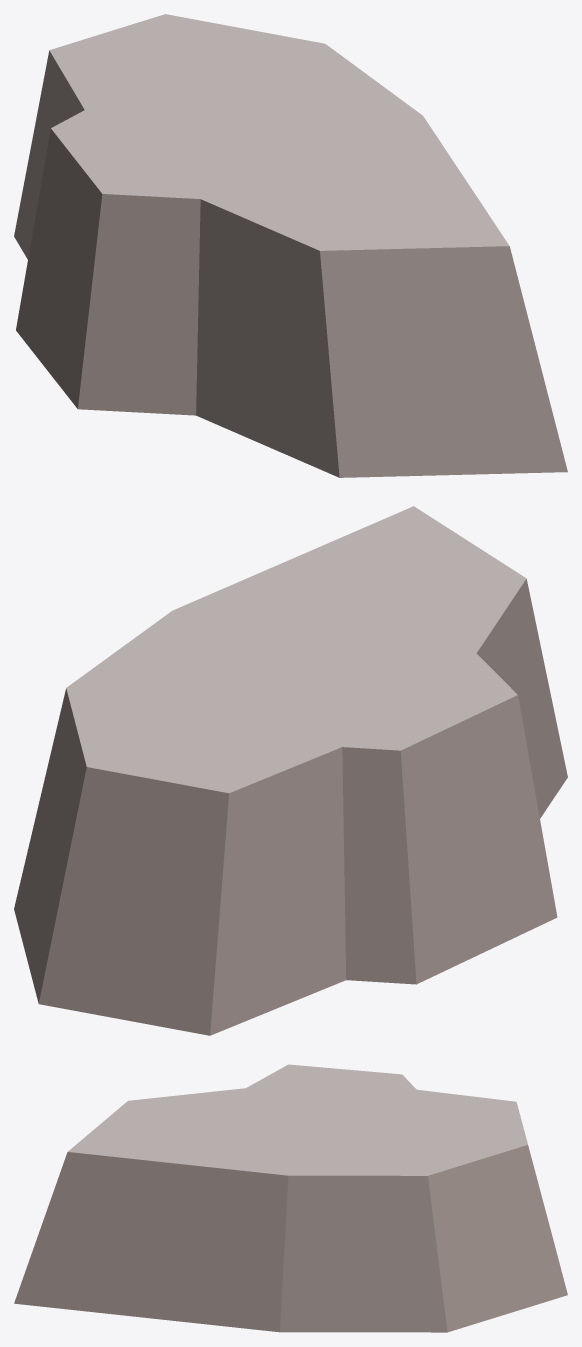
Rendered from shitou_002.FBX.
3 views of the same model, one above another, from view 1: azimuth 30°, elevation 25°; view 2: azimuth 150°, elevation 25°; view 3: azimuth 270°, elevation 25° (orthographic). The views are drawn at different scales.
Visible parts, largest first — view 1: shitou_002; view 2: shitou_002; view 3: shitou_002.
Boxes of the visible parts, left/top/right/bottom form: shitou_002: left=14, top=14, right=567, bottom=477; shitou_002: left=14, top=506, right=567, bottom=1035; shitou_002: left=14, top=1064, right=567, bottom=1332.
Size of the model in its own units: 585 by 295 by 1022.
